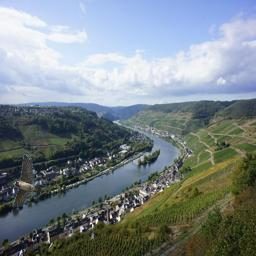Swallow: (13, 154, 41, 208)
